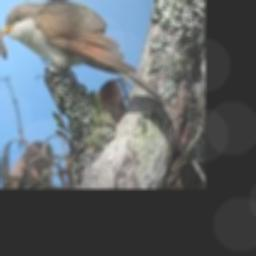Cuckoo: (0, 0, 164, 103)
